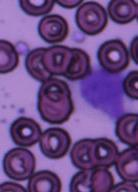M: (76, 66, 124, 119)
